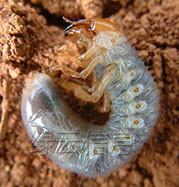grub: (18, 13, 161, 181)
